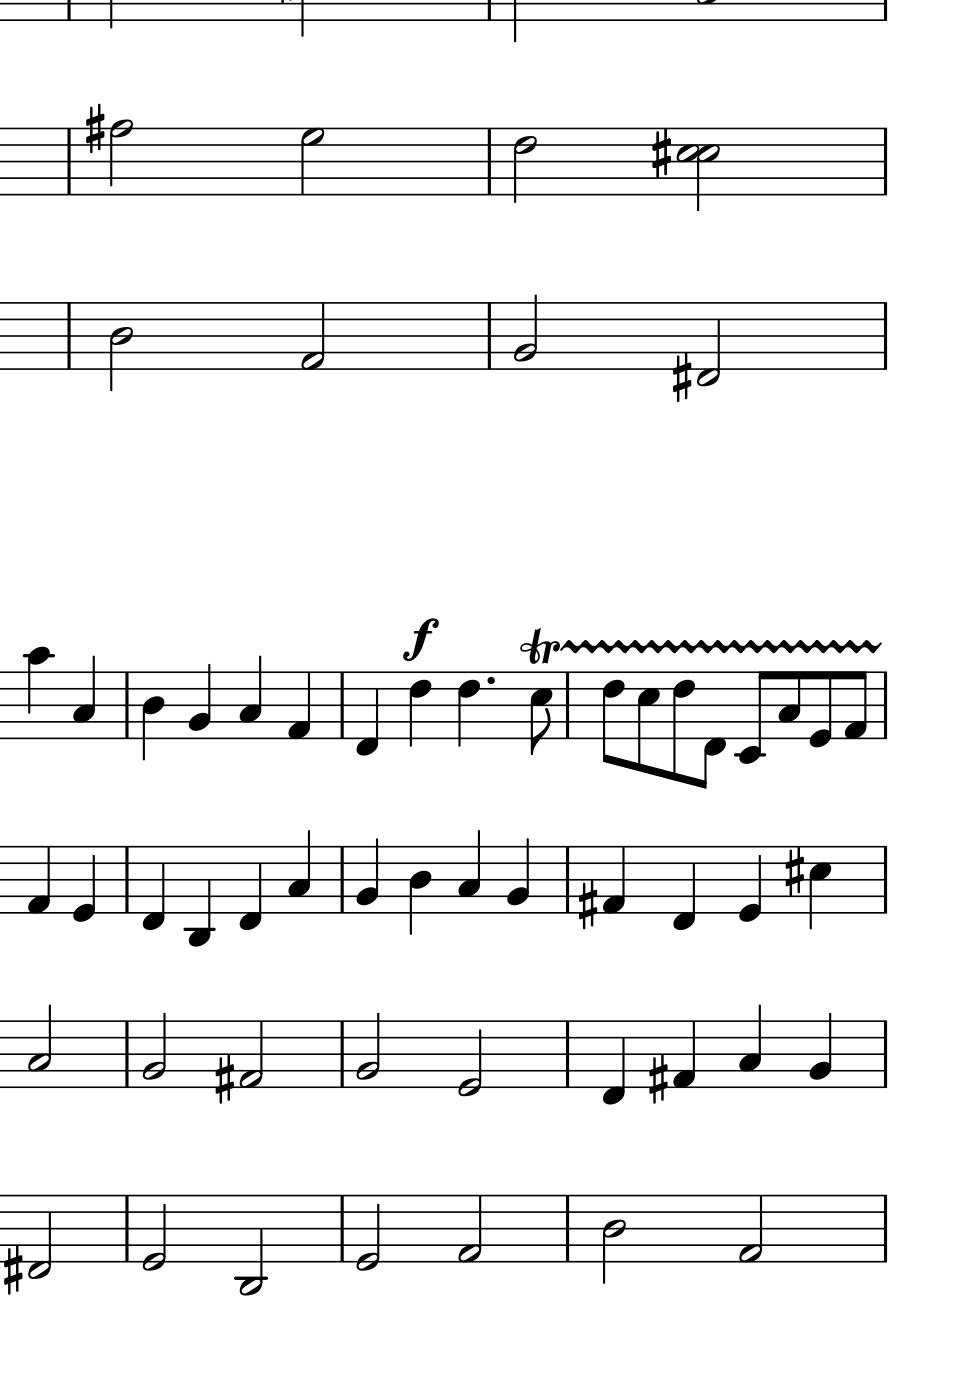2_-1: (695, 300, 722, 385), (27, 1192, 53, 1280)
2_-3: (235, 1193, 266, 1298)
2_0: (140, 1193, 168, 1273), (456, 1018, 483, 1096), (354, 1193, 380, 1273)
2_1: (299, 301, 327, 373), (237, 1018, 264, 1089), (737, 1193, 764, 1265), (456, 1194, 483, 1264)
2_2: (140, 1011, 168, 1088), (354, 1011, 382, 1088), (511, 294, 539, 370)
2_3: (27, 1005, 52, 1088)
2_4: (107, 300, 133, 392), (600, 1193, 625, 1284)
2_6: (511, 126, 536, 205)
2_7: (298, 124, 326, 196)
2_8: (107, 117, 134, 198)
4_-1: (139, 843, 167, 933), (670, 843, 697, 933), (599, 1018, 626, 1106), (353, 670, 380, 757), (237, 843, 262, 933)
4_-3: (185, 842, 213, 950)
4_0: (70, 844, 97, 924), (736, 844, 763, 924)
4_1: (24, 844, 52, 915), (286, 670, 312, 741), (671, 1019, 697, 1090), (601, 844, 626, 915)
4_10: (23, 644, 51, 743)
4_2: (186, 662, 212, 741), (505, 836, 531, 915), (807, 1010, 833, 1090), (355, 836, 380, 915)
4_3: (237, 653, 263, 740), (71, 654, 97, 740), (456, 828, 482, 914), (737, 1003, 763, 1088), (286, 829, 311, 915)
4_4: (140, 670, 165, 764), (407, 844, 432, 937)
4_5: (807, 844, 832, 931)
4_6: (455, 670, 482, 749), (406, 670, 432, 750)
8_-1: (698, 669, 727, 791)
8_-2: (734, 669, 771, 764)
8_0: (807, 669, 833, 750)
8_1: (843, 670, 867, 742)
8_3: (776, 670, 801, 740)
8_5: (635, 669, 660, 776), (528, 670, 553, 756)
8_6: (670, 670, 694, 783), (600, 670, 624, 768)
Sharp: (647, 127, 672, 180), (782, 845, 805, 899), (575, 878, 598, 931), (646, 1053, 669, 1106), (83, 102, 105, 156), (670, 351, 692, 404), (213, 1053, 234, 1105), (2, 1243, 22, 1296)
Single_barline: (876, 128, 894, 195), (482, 128, 498, 196), (876, 846, 893, 914), (876, 1021, 893, 1088), (876, 303, 893, 369), (877, 1195, 893, 1262), (482, 303, 497, 369), (334, 672, 350, 738), (118, 847, 134, 913), (559, 847, 575, 913), (559, 1196, 575, 1262), (878, 671, 893, 741), (119, 673, 135, 738), (559, 1022, 575, 1087), (119, 1196, 134, 1262), (62, 128, 76, 193), (334, 847, 349, 912), (62, 303, 75, 369), (560, 672, 574, 738), (335, 1196, 349, 1262), (120, 1022, 134, 1087), (335, 1022, 349, 1087)
Trill_line: (518, 624, 886, 668)
dot: (483, 674, 497, 688)
f: (401, 617, 440, 662)
